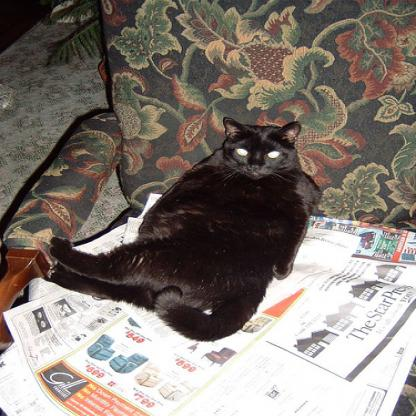cat: (47, 120, 310, 339)
chair: (0, 0, 415, 415)
